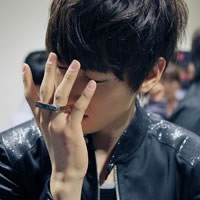face: (48, 31, 126, 137)
